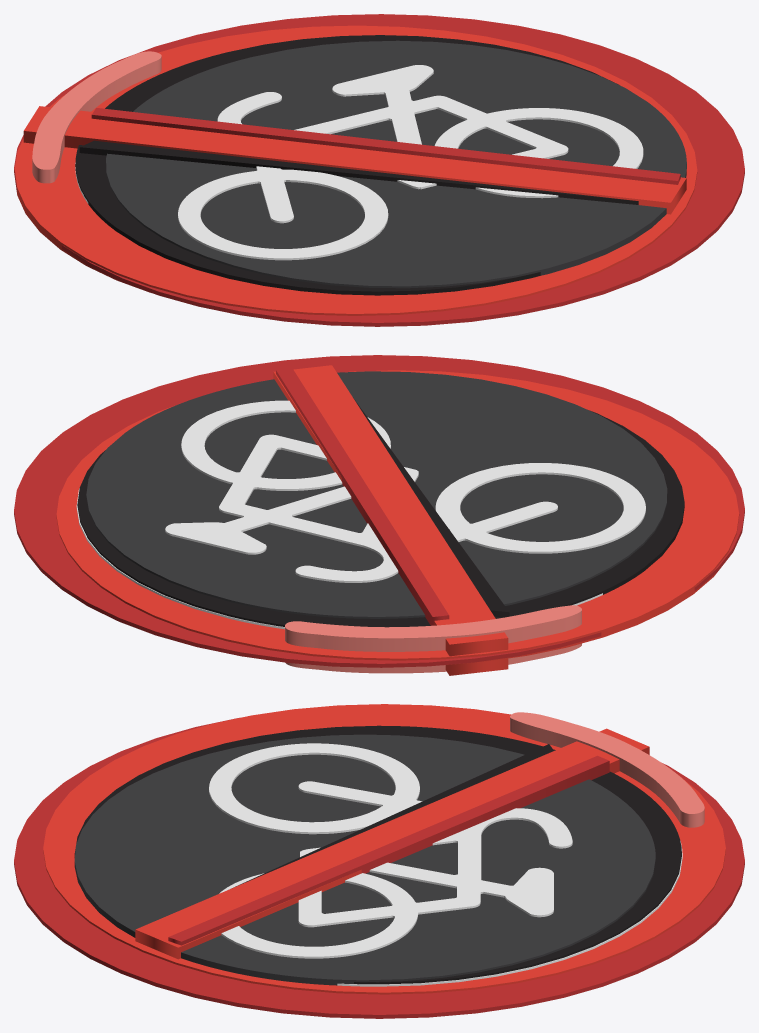
The model's file is emoji_u1f6b3.glb.
The picture shows the model from 3 angles, top to bottom: view 1: azimuth 30°, elevation 25°; view 2: azimuth 150°, elevation 25°; view 3: azimuth 270°, elevation 25°; orthographic projection.
Visible parts, largest first — view 1: emoji_u1f6b3; view 2: emoji_u1f6b3; view 3: emoji_u1f6b3.
Boxes of the visible parts, <box> form: emoji_u1f6b3: <box>14,14,744,326</box>; emoji_u1f6b3: <box>14,355,744,675</box>; emoji_u1f6b3: <box>14,704,744,1018</box>.
Bounding box in the file's own units: 0.0339 × 0.002 × 0.0339.
